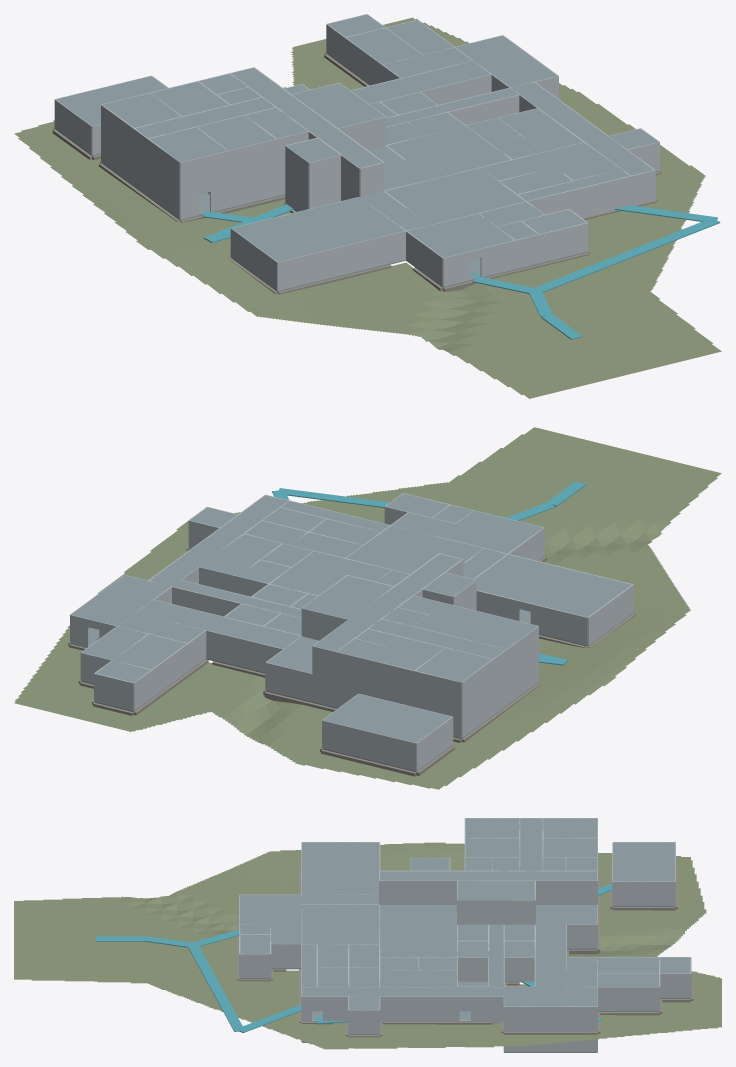
File: open-circulation.glb
3 renders of one model, top to bottom at view 1: azimuth 30°, elevation 25°; view 2: azimuth 150°, elevation 25°; view 3: azimuth 270°, elevation 25°, orthographic. The views are drawn at different scales.
Visible parts, largest first — view 1: Saved editor macroterrain ASYLUM, Ceiling cap day, Ceiling cap dining, Wall day S, Ceiling cap treatment, Ceiling cap upper-spine, Ceiling cap service, Ceiling cap service-stair, Ceiling cap admission, Wall meal-return S, Ceiling cap service-link, Ceiling cap upper-stair (+52 smaller); view 2: Saved editor macroterrain ASYLUM, Ceiling cap day, Ceiling cap chapel, Ceiling cap dining, Ceiling cap upper-spine, Wall chapel N, Ceiling cap service, Ceiling cap service-link, Ceiling cap treatment, Ceiling cap service-stair, Ceiling cap admission, Ceiling cap upper-stair (+50 smaller); view 3: Saved editor macroterrain ASYLUM, Ceiling cap day, Flat route shell Wall service E, Ceiling cap dining, Ceiling cap treatment, Ceiling cap chapel, Wall service-stair E, Ceiling cap upper-spine, Ceiling cap service, Ceiling cap service-link, Wall upper-stair E, Flat route shell Wall upper-spine E.001 (+46 smaller).
Boxes of the visible parts, <box> form: Saved editor macroterrain ASYLUM: <box>14,17,721,398</box>; Ceiling cap day: <box>232,197,404,261</box>; Ceiling cap dining: <box>385,168,525,224</box>; Wall day S: <box>277,231,405,290</box>; Ceiling cap treatment: <box>387,126,510,179</box>; Ceiling cap upper-spine: <box>231,68,382,168</box>; Ceiling cap service: <box>511,82,653,175</box>; Ceiling cap service-stair: <box>455,35,557,87</box>; Ceiling cap admission: <box>407,213,513,257</box>; Wall meal-return S: <box>527,176,631,216</box>; Ceiling cap service-link: <box>351,61,490,103</box>; Ceiling cap upper-stair: <box>292,83,385,128</box>; Saved editor macroterrain ASYLUM: <box>14,427,721,789</box>; Ceiling cap day: <box>474,554,631,617</box>; Ceiling cap chapel: <box>323,694,451,743</box>; Ceiling cap dining: <box>346,526,483,573</box>; Ceiling cap upper-spine: <box>313,554,461,651</box>; Wall chapel N: <box>322,720,416,771</box>; Ceiling cap service: <box>149,495,287,586</box>; Ceiling cap service-link: <box>136,600,301,648</box>; Ceiling cap treatment: <box>270,551,391,595</box>; Ceiling cap service-stair: <box>71,575,170,626</box>; Ceiling cap admission: <box>438,510,543,553</box>; Ceiling cap upper-stair: <box>302,575,393,619</box>; Saved editor macroterrain ASYLUM: <box>14,842,721,1049</box>; Ceiling cap day: <box>302,842,379,894</box>; Flat route shell Wall service E: <box>323,996,503,1020</box>; Ceiling cap dining: <box>302,904,379,944</box>; Ceiling cap treatment: <box>379,924,457,957</box>; Ceiling cap chapel: <box>613,842,675,881</box>; Wall service-stair E: <box>504,1006,597,1030</box>; Ceiling cap upper-spine: <box>379,871,597,880</box>; Ceiling cap service: <box>302,987,503,996</box>; Ceiling cap service-link: <box>535,924,566,986</box>; Wall upper-stair E: <box>457,900,535,924</box>; Flat route shell Wall upper-spine E.001: <box>379,880,467,904</box>.
Size of the model in its own units: 62 by 9.96 by 91.
